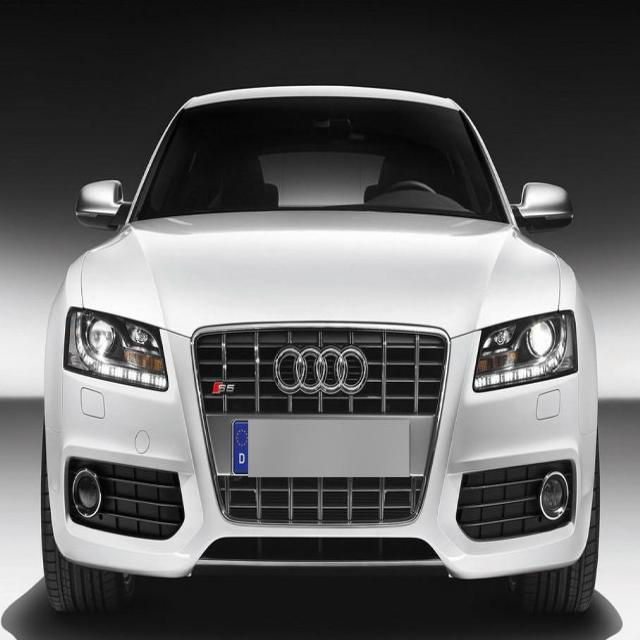front_bumper: (47, 322, 590, 574)
front_glass: (133, 96, 510, 223)
front_left_side_light: (470, 306, 581, 397)
front_left_side_mirror: (515, 177, 576, 238)
front_right_side_light: (62, 295, 170, 395)
front_right_side_mirror: (73, 174, 129, 234)
